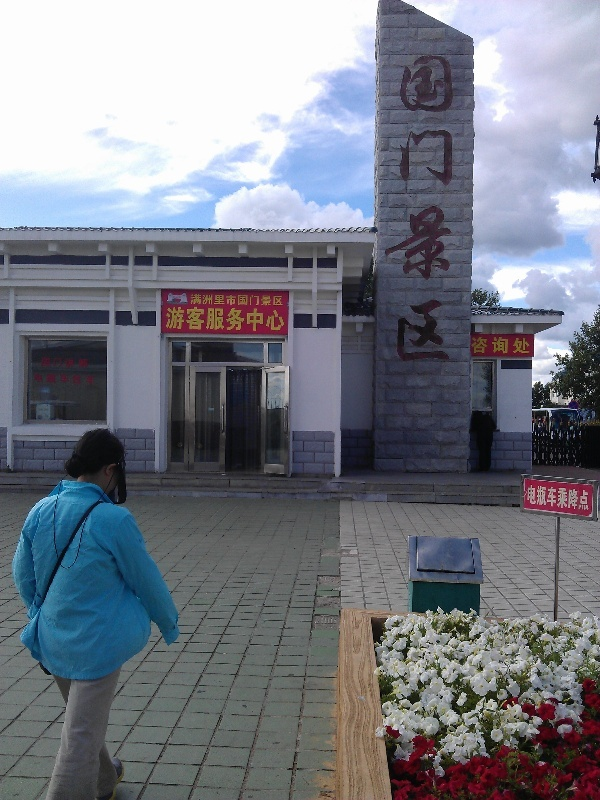text: (401, 52, 416, 363), (417, 52, 432, 363), (433, 52, 448, 363), (386, 52, 400, 363), (449, 52, 458, 363), (529, 483, 544, 512), (545, 483, 560, 512), (561, 483, 576, 512), (577, 483, 590, 512), (177, 307, 192, 332), (193, 307, 208, 332), (209, 307, 224, 332), (225, 307, 240, 332), (241, 307, 256, 332), (257, 307, 272, 332), (273, 307, 286, 332), (481, 337, 496, 354), (497, 337, 512, 354), (513, 337, 528, 354), (166, 307, 176, 332), (49, 373, 64, 386), (65, 373, 80, 386), (81, 373, 96, 386), (34, 373, 48, 386), (193, 294, 208, 306), (209, 294, 224, 306), (225, 294, 240, 306), (241, 294, 256, 306), (257, 294, 272, 306), (49, 358, 64, 369), (65, 358, 80, 369), (471, 337, 480, 354), (273, 294, 284, 306), (41, 358, 48, 369), (81, 358, 88, 369), (529, 337, 531, 354), (527, 483, 528, 512), (190, 294, 192, 306)
